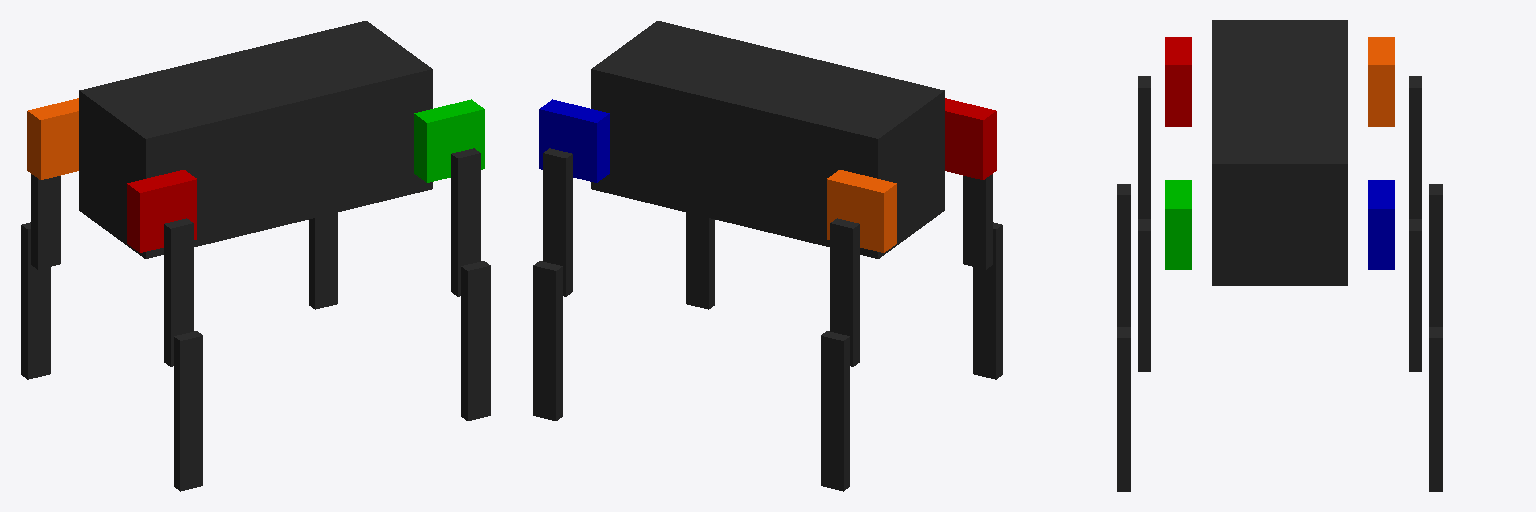
robot.urdf — IdefX:
<?xml version="1.0" ?>
<robot name="IdefX">
	<material name="black">
		<color rgba="0.0 0.0 0.0 1.0"/>
	</material>
	<material name="blue">
		<color rgba="0.0 0.0 0.8 1.0"/>
	</material>
	<material name="green">
		<color rgba="0.0 0.8 0.0 1.0"/>
	</material>
	<material name="grey">
		<color rgba="0.2 0.2 0.2 1.0"/>
	</material>
	<material name="silver">
		<color rgba="0.913725490196 0.913725490196 0.847058823529 1.0"/>
	</material>
	<material name="orange">
		<color rgba="1.0 0.423529411765 0.0392156862745 1.0"/>
	</material>
	<material name="brown">
		<color rgba="0.870588235294 0.811764705882 0.764705882353 1.0"/>
	</material>
	<material name="red">
		<color rgba="0.8 0.0 0.0 1.0"/>
	</material>
	<material name="white">
		<color rgba="1.0 1.0 1.0 1.0"/>
	</material>
	<link name="trunk">
		<visual>
			<origin rpy="0 0 0" xyz="0 0 0"/>
			<geometry>
				<box size="0.5 0.2 0.2"/>
			</geometry>
			<material name="grey"/>
		</visual>
		<collision>
			<origin rpy="0 0 0" xyz="0 0 0"/>
			<geometry>
				<box size="0.5 0.2 0.2"/>
			</geometry>
		</collision>
		<inertial>
			<origin rpy="0 0 0" xyz="0 0 0"/>
			<mass value="13"/>
			<inertia ixx="0.08666666666666668" ixy="0" ixz="0" iyy="0.3141666666666667" iyz="0" izz="0.3141666666666667"/>
		</inertial>
	</link>
	<joint name="FL_clavicle_joint" type="revolute">
		<origin rpy="0 0 0" xyz="0.25 0.15 0"/>
		<parent link="trunk"/>
		<child link="FL_clavicle"/>
		<axis xyz="1 0 0"/>
		<dynamics damping="0" friction="0"/>
		<limit effort="20"/>
	</joint>
	<link name="FL_clavicle">
		<visual>
			<origin rpy="0 0 0" xyz="0 0 0"/>
			<geometry>
				<box size="0.1 0.04 0.1"/>
			</geometry>
			<material name="blue"/>
		</visual>
		<collision>
			<origin rpy="0 0 0" xyz="0 0 0"/>
			<geometry>
				<box size="0.1 0.04 0.1"/>
			</geometry>
		</collision>
		<inertial>
			<origin rpy="0 0 0" xyz="0 0 0"/>
			<mass value="0.6"/>
			<inertia ixx="0.0005800000000000001" ixy="0" ixz="0" iyy="0.001" iyz="0" izz="0.0005800000000000001"/>
		</inertial>
	</link>
	<joint name="FL_arm_joint" type="revolute">
		<origin rpy="0 0 0" xyz="0 0.05 0"/>
		<parent link="FL_clavicle"/>
		<child link="FL_arm"/>
		<axis xyz="0 1 0"/>
		<dynamics damping="0" friction="0"/>
		<limit effort="20"/>
	</joint>
	<link name="FL_arm">
		<visual>
			<origin rpy="0 0 0" xyz="0 0 -0.115"/>
			<geometry>
				<box size="0.04 0.02 0.23"/>
			</geometry>
			<material name="grey"/>
		</visual>
		<collision>
			<origin rpy="0 0 0" xyz="0 0 -0.115"/>
			<geometry>
				<box size="0.04 0.02 0.23"/>
			</geometry>
		</collision>
		<inertial>
			<origin rpy="0 0 0" xyz="0 0 -0.115"/>
			<mass value="0.6"/>
			<inertia ixx="0.002665" ixy="0" ixz="0" iyy="0.0027249999999999996" iyz="0" izz="9.999999999999999e-05"/>
		</inertial>
	</link>
	<joint name="FL_forearm_joint" type="revolute">
		<origin rpy="0 0 0" xyz="0 0.03 -0.2"/>
		<parent link="FL_arm"/>
		<child link="FL_forearm"/>
		<axis xyz="0 1 0"/>
		<dynamics damping="0" friction="0"/>
		<limit effort="20"/>
	</joint>
	<link name="FL_forearm">
		<visual>
			<origin rpy="0 0 0" xyz="0 0 -0.1"/>
			<geometry>
				<box size="0.04 0.02 0.25"/>
			</geometry>
			<material name="grey"/>
		</visual>
		<collision>
			<origin rpy="0 0 0" xyz="0 0 -0.1"/>
			<geometry>
				<box size="0.04 0.02 0.25"/>
			</geometry>
		</collision>
		<inertial>
			<origin rpy="0 0 0" xyz="0 0 -0.1"/>
			<mass value="0.6"/>
			<inertia ixx="0.003145" ixy="0" ixz="0" iyy="0.003205" iyz="0" izz="9.999999999999999e-05"/>
		</inertial>
	</link>
	<joint name="FL_foot_joint" type="fixed">
		<origin rpy="0 0 0" xyz="0 0.01 -0.25"/>
		<parent link="FL_forearm"/>
		<child link="FL_foot"/>
		<axis xyz="0 1 0"/>
		<dynamics damping="0" friction="0"/>
		<limit effort="20"/>
	</joint>
	<link name="FL_foot">
		<inertial>
			<origin rpy="0 0 0" xyz="0 0 0"/>
			<mass value="0"/>
			<inertia ixx="0" ixy="0" ixz="0" iyy="0" iyz="0" izz="0"/>
		</inertial>
	</link>
	<joint name="FR_clavicle_joint" type="revolute">
		<origin rpy="0 0 0" xyz="0.25 -0.15 0"/>
		<parent link="trunk"/>
		<child link="FR_clavicle"/>
		<axis xyz="1 0 0"/>
		<dynamics damping="0" friction="0"/>
		<limit effort="20"/>
	</joint>
	<link name="FR_clavicle">
		<visual>
			<origin rpy="0 0 0" xyz="0 0 0"/>
			<geometry>
				<box size="0.1 0.04 0.1"/>
			</geometry>
			<material name="green"/>
		</visual>
		<collision>
			<origin rpy="0 0 0" xyz="0 0 0"/>
			<geometry>
				<box size="0.1 0.04 0.1"/>
			</geometry>
		</collision>
		<inertial>
			<origin rpy="0 0 0" xyz="0 0 0"/>
			<mass value="0.6"/>
			<inertia ixx="0.0005800000000000001" ixy="0" ixz="0" iyy="0.001" iyz="0" izz="0.0005800000000000001"/>
		</inertial>
	</link>
	<joint name="FR_arm_joint" type="revolute">
		<origin rpy="0 0 0" xyz="0 -0.05 0"/>
		<parent link="FR_clavicle"/>
		<child link="FR_arm"/>
		<axis xyz="0 1 0"/>
		<dynamics damping="0" friction="0"/>
		<limit effort="20"/>
	</joint>
	<link name="FR_arm">
		<visual>
			<origin rpy="0 0 0" xyz="0 0 -0.115"/>
			<geometry>
				<box size="0.04 0.02 0.23"/>
			</geometry>
			<material name="grey"/>
		</visual>
		<collision>
			<origin rpy="0 0 0" xyz="0 0 -0.115"/>
			<geometry>
				<box size="0.04 0.02 0.23"/>
			</geometry>
		</collision>
		<inertial>
			<origin rpy="0 0 0" xyz="0 0 -0.115"/>
			<mass value="0.6"/>
			<inertia ixx="0.002665" ixy="0" ixz="0" iyy="0.0027249999999999996" iyz="0" izz="9.999999999999999e-05"/>
		</inertial>
	</link>
	<joint name="FR_forearm_joint" type="revolute">
		<origin rpy="0 0 0" xyz="0 -0.03 -0.2"/>
		<parent link="FR_arm"/>
		<child link="FR_forearm"/>
		<axis xyz="0 1 0"/>
		<dynamics damping="0" friction="0"/>
		<limit effort="20"/>
	</joint>
	<link name="FR_forearm">
		<visual>
			<origin rpy="0 0 0" xyz="0 0 -0.1"/>
			<geometry>
				<box size="0.04 0.02 0.25"/>
			</geometry>
			<material name="grey"/>
		</visual>
		<collision>
			<origin rpy="0 0 0" xyz="0 0 -0.1"/>
			<geometry>
				<box size="0.04 0.02 0.25"/>
			</geometry>
		</collision>
		<inertial>
			<origin rpy="0 0 0" xyz="0 0 -0.1"/>
			<mass value="0.6"/>
			<inertia ixx="0.003145" ixy="0" ixz="0" iyy="0.003205" iyz="0" izz="9.999999999999999e-05"/>
		</inertial>
	</link>
	<joint name="FR_foot_joint" type="fixed">
		<origin rpy="0 0 0" xyz="0 -0.01 -0.25"/>
		<parent link="FR_forearm"/>
		<child link="FR_foot"/>
		<axis xyz="0 1 0"/>
		<dynamics damping="0" friction="0"/>
		<limit effort="20"/>
	</joint>
	<link name="FR_foot">
		<inertial>
			<origin rpy="0 0 0" xyz="0 0 0"/>
			<mass value="0"/>
			<inertia ixx="0" ixy="0" ixz="0" iyy="0" iyz="0" izz="0"/>
		</inertial>
	</link>
	<joint name="BL_clavicle_joint" type="revolute">
		<origin rpy="0 0 0" xyz="-0.25 0.15 0"/>
		<parent link="trunk"/>
		<child link="BL_clavicle"/>
		<axis xyz="1 0 0"/>
		<dynamics damping="0" friction="0"/>
		<limit effort="20"/>
	</joint>
	<link name="BL_clavicle">
		<visual>
			<origin rpy="0 0 0" xyz="0 0 0"/>
			<geometry>
				<box size="0.1 0.04 0.1"/>
			</geometry>
			<material name="orange"/>
		</visual>
		<collision>
			<origin rpy="0 0 0" xyz="0 0 0"/>
			<geometry>
				<box size="0.1 0.04 0.1"/>
			</geometry>
		</collision>
		<inertial>
			<origin rpy="0 0 0" xyz="0 0 0"/>
			<mass value="0.6"/>
			<inertia ixx="0.0005800000000000001" ixy="0" ixz="0" iyy="0.001" iyz="0" izz="0.0005800000000000001"/>
		</inertial>
	</link>
	<joint name="BL_arm_joint" type="revolute">
		<origin rpy="0 0 0" xyz="0 0.05 0"/>
		<parent link="BL_clavicle"/>
		<child link="BL_arm"/>
		<axis xyz="0 1 0"/>
		<dynamics damping="0" friction="0"/>
		<limit effort="20"/>
	</joint>
	<link name="BL_arm">
		<visual>
			<origin rpy="0 0 0" xyz="0 0 -0.115"/>
			<geometry>
				<box size="0.04 0.02 0.23"/>
			</geometry>
			<material name="grey"/>
		</visual>
		<collision>
			<origin rpy="0 0 0" xyz="0 0 -0.115"/>
			<geometry>
				<box size="0.04 0.02 0.23"/>
			</geometry>
		</collision>
		<inertial>
			<origin rpy="0 0 0" xyz="0 0 -0.115"/>
			<mass value="0.6"/>
			<inertia ixx="0.002665" ixy="0" ixz="0" iyy="0.0027249999999999996" iyz="0" izz="9.999999999999999e-05"/>
		</inertial>
	</link>
	<joint name="BL_forearm_joint" type="revolute">
		<origin rpy="0 0 0" xyz="0 0.03 -0.2"/>
		<parent link="BL_arm"/>
		<child link="BL_forearm"/>
		<axis xyz="0 1 0"/>
		<dynamics damping="0" friction="0"/>
		<limit effort="20"/>
	</joint>
	<link name="BL_forearm">
		<visual>
			<origin rpy="0 0 0" xyz="0 0 -0.1"/>
			<geometry>
				<box size="0.04 0.02 0.25"/>
			</geometry>
			<material name="grey"/>
		</visual>
		<collision>
			<origin rpy="0 0 0" xyz="0 0 -0.1"/>
			<geometry>
				<box size="0.04 0.02 0.25"/>
			</geometry>
		</collision>
		<inertial>
			<origin rpy="0 0 0" xyz="0 0 -0.1"/>
			<mass value="0.6"/>
			<inertia ixx="0.003145" ixy="0" ixz="0" iyy="0.003205" iyz="0" izz="9.999999999999999e-05"/>
		</inertial>
	</link>
	<joint name="BL_foot_joint" type="fixed">
		<origin rpy="0 0 0" xyz="0 0.01 -0.25"/>
		<parent link="BL_forearm"/>
		<child link="BL_foot"/>
		<axis xyz="0 1 0"/>
		<dynamics damping="0" friction="0"/>
		<limit effort="20"/>
	</joint>
	<link name="BL_foot">
		<inertial>
			<origin rpy="0 0 0" xyz="0 0 0"/>
			<mass value="0"/>
			<inertia ixx="0" ixy="0" ixz="0" iyy="0" iyz="0" izz="0"/>
		</inertial>
	</link>
	<joint name="BR_clavicle_joint" type="revolute">
		<origin rpy="0 0 0" xyz="-0.25 -0.15 0"/>
		<parent link="trunk"/>
		<child link="BR_clavicle"/>
		<axis xyz="1 0 0"/>
		<dynamics damping="0" friction="0"/>
		<limit effort="20"/>
	</joint>
	<link name="BR_clavicle">
		<visual>
			<origin rpy="0 0 0" xyz="0 0 0"/>
			<geometry>
				<box size="0.1 0.04 0.1"/>
			</geometry>
			<material name="red"/>
		</visual>
		<collision>
			<origin rpy="0 0 0" xyz="0 0 0"/>
			<geometry>
				<box size="0.1 0.04 0.1"/>
			</geometry>
		</collision>
		<inertial>
			<origin rpy="0 0 0" xyz="0 0 0"/>
			<mass value="0.6"/>
			<inertia ixx="0.0005800000000000001" ixy="0" ixz="0" iyy="0.001" iyz="0" izz="0.0005800000000000001"/>
		</inertial>
	</link>
	<joint name="BR_arm_joint" type="revolute">
		<origin rpy="0 0 0" xyz="0 -0.05 0"/>
		<parent link="BR_clavicle"/>
		<child link="BR_arm"/>
		<axis xyz="0 1 0"/>
		<dynamics damping="0" friction="0"/>
		<limit effort="20"/>
	</joint>
	<link name="BR_arm">
		<visual>
			<origin rpy="0 0 0" xyz="0 0 -0.115"/>
			<geometry>
				<box size="0.04 0.02 0.23"/>
			</geometry>
			<material name="grey"/>
		</visual>
		<collision>
			<origin rpy="0 0 0" xyz="0 0 -0.115"/>
			<geometry>
				<box size="0.04 0.02 0.23"/>
			</geometry>
		</collision>
		<inertial>
			<origin rpy="0 0 0" xyz="0 0 -0.115"/>
			<mass value="0.6"/>
			<inertia ixx="0.002665" ixy="0" ixz="0" iyy="0.0027249999999999996" iyz="0" izz="9.999999999999999e-05"/>
		</inertial>
	</link>
	<joint name="BR_forearm_joint" type="revolute">
		<origin rpy="0 0 0" xyz="0 -0.03 -0.2"/>
		<parent link="BR_arm"/>
		<child link="BR_forearm"/>
		<axis xyz="0 1 0"/>
		<dynamics damping="0" friction="0"/>
		<limit effort="20"/>
	</joint>
	<link name="BR_forearm">
		<visual>
			<origin rpy="0 0 0" xyz="0 0 -0.1"/>
			<geometry>
				<box size="0.04 0.02 0.25"/>
			</geometry>
			<material name="grey"/>
		</visual>
		<collision>
			<origin rpy="0 0 0" xyz="0 0 -0.1"/>
			<geometry>
				<box size="0.04 0.02 0.25"/>
			</geometry>
		</collision>
		<inertial>
			<origin rpy="0 0 0" xyz="0 0 -0.1"/>
			<mass value="0.6"/>
			<inertia ixx="0.003145" ixy="0" ixz="0" iyy="0.003205" iyz="0" izz="9.999999999999999e-05"/>
		</inertial>
	</link>
	<joint name="BR_foot_joint" type="fixed">
		<origin rpy="0 0 0" xyz="0 -0.01 -0.25"/>
		<parent link="BR_forearm"/>
		<child link="BR_foot"/>
		<axis xyz="0 1 0"/>
		<dynamics damping="0" friction="0"/>
		<limit effort="20"/>
	</joint>
	<link name="BR_foot">
		<inertial>
			<origin rpy="0 0 0" xyz="0 0 0"/>
			<mass value="0"/>
			<inertia ixx="0" ixy="0" ixz="0" iyy="0" iyz="0" izz="0"/>
		</inertial>
	</link>
</robot>

--- Render facts (derived) ---
Views: 3 orthographic renders of the robot side by side, from view 1: azimuth 30°, elevation 25°; view 2: azimuth 150°, elevation 25°; view 3: azimuth 270°, elevation 25°.
Model IdefX with 17 links and 16 joints (12 revolute, 4 fixed), rooted at trunk, posed every joint at zero.
Links seen in each view (by area): view 1: trunk, FR_forearm, BR_forearm, FR_clavicle, BR_clavicle, BL_forearm, BL_clavicle, FR_arm, BR_arm, BL_arm, FL_forearm; view 2: trunk, FL_forearm, BL_forearm, FL_clavicle, BL_clavicle, BR_forearm, BR_clavicle, FL_arm, BL_arm, BR_arm, FR_forearm; view 3: trunk, FL_clavicle, FR_clavicle, BL_clavicle, BR_clavicle, FL_forearm, FR_forearm, BL_forearm, BR_forearm, FL_arm, FR_arm, BL_arm (+1 smaller).
Boxes of the visible links, bbox=[...] form: trunk: bbox=[79, 21, 432, 258]; FR_forearm: bbox=[461, 261, 490, 420]; BR_forearm: bbox=[174, 331, 202, 491]; FR_clavicle: bbox=[414, 99, 484, 182]; BR_clavicle: bbox=[127, 170, 196, 252]; BL_forearm: bbox=[21, 222, 50, 379]; BL_clavicle: bbox=[27, 98, 78, 179]; FR_arm: bbox=[451, 148, 480, 296]; BR_arm: bbox=[164, 218, 193, 366]; BL_arm: bbox=[31, 174, 60, 269]; FL_forearm: bbox=[309, 213, 337, 309]; trunk: bbox=[591, 21, 944, 258]; FL_forearm: bbox=[533, 261, 562, 420]; BL_forearm: bbox=[821, 331, 849, 491]; FL_clavicle: bbox=[539, 99, 609, 182]; BL_clavicle: bbox=[827, 170, 896, 252]; BR_forearm: bbox=[973, 222, 1002, 379]; BR_clavicle: bbox=[945, 98, 996, 179]; FL_arm: bbox=[543, 148, 572, 296]; BL_arm: bbox=[830, 218, 859, 366]; BR_arm: bbox=[963, 174, 992, 269]; FR_forearm: bbox=[686, 213, 714, 309]; trunk: bbox=[1212, 20, 1347, 285]; FL_clavicle: bbox=[1368, 180, 1394, 269]; FR_clavicle: bbox=[1165, 180, 1191, 269]; BL_clavicle: bbox=[1368, 37, 1394, 126]; BR_clavicle: bbox=[1165, 37, 1191, 126]; FL_forearm: bbox=[1429, 327, 1442, 491]; FR_forearm: bbox=[1117, 327, 1130, 491]; BL_forearm: bbox=[1429, 184, 1442, 326]; BR_forearm: bbox=[1117, 184, 1130, 326]; FL_arm: bbox=[1409, 219, 1421, 371]; FR_arm: bbox=[1138, 219, 1150, 371]; BL_arm: bbox=[1409, 76, 1421, 218].
Size in the robot's own frame: 0.6 by 0.48 by 0.525 metres.
Geometry: primitives only (box / cylinder / sphere), no mesh files.
